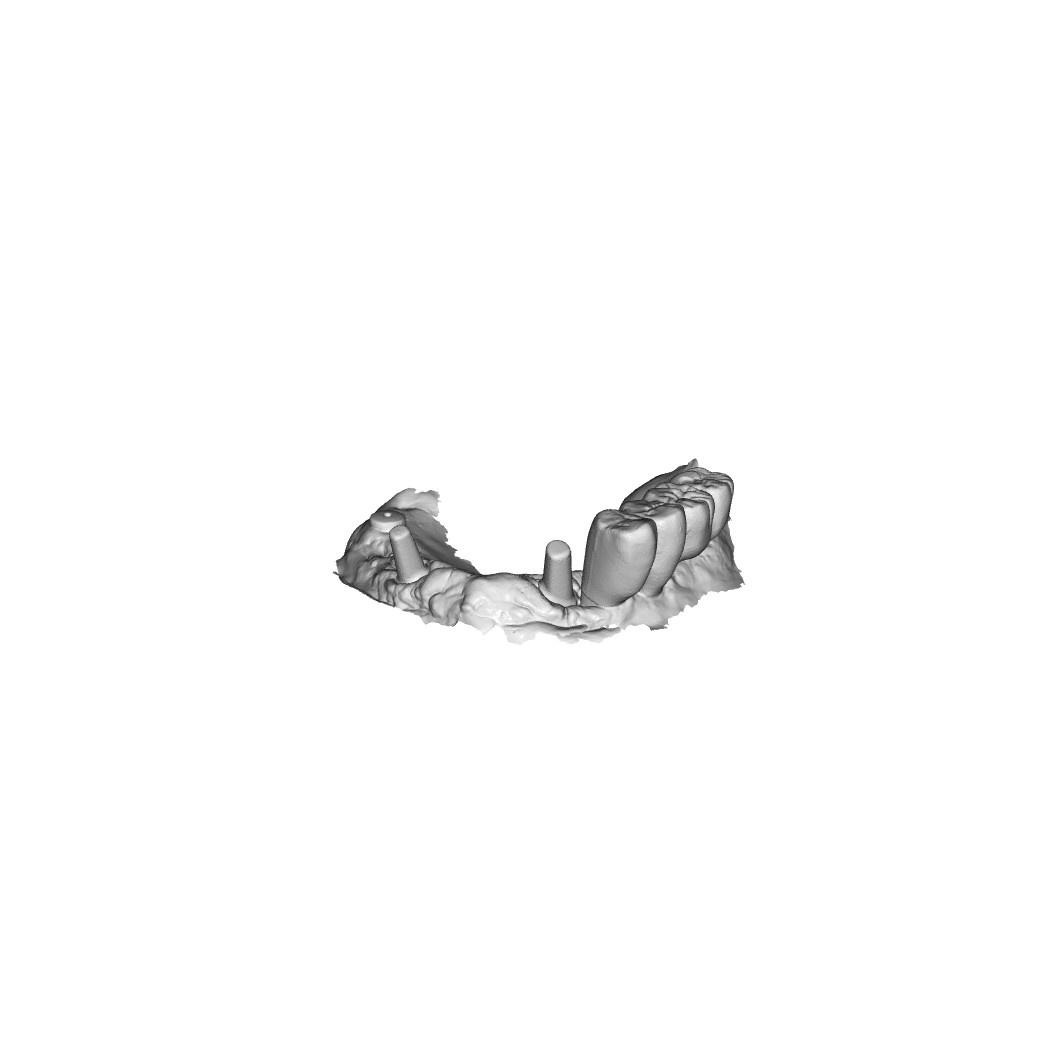abutment: (387, 526, 430, 594), (541, 538, 578, 613)
implant: (367, 499, 408, 534)
molar: (671, 466, 735, 535), (645, 493, 717, 550)
premolar: (574, 510, 657, 613), (623, 502, 690, 600)
